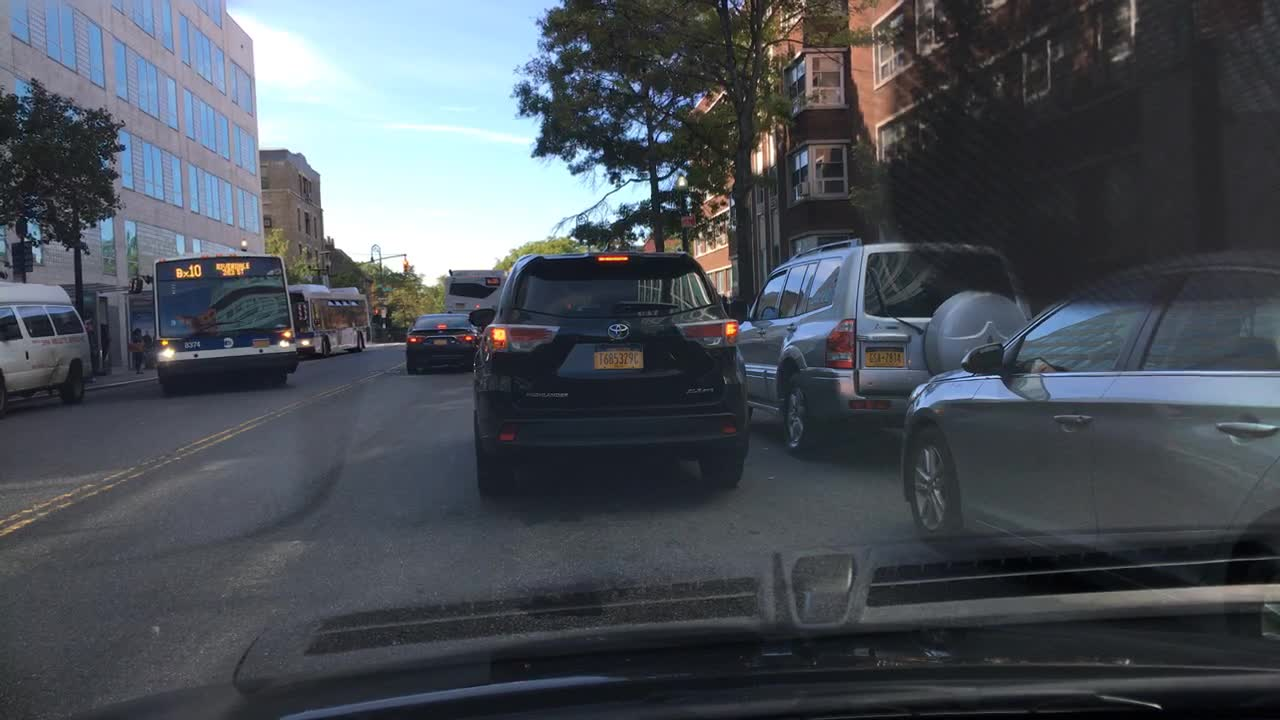bus: (152, 252, 301, 392), (286, 283, 373, 357), (444, 268, 506, 330)
car: (897, 246, 1278, 584), (468, 251, 750, 496), (735, 237, 1031, 458), (0, 278, 93, 419), (404, 311, 478, 374)
person: (127, 326, 143, 374)
traffic light: (402, 261, 409, 274)
traffic sign: (679, 213, 697, 229), (379, 285, 392, 292)
